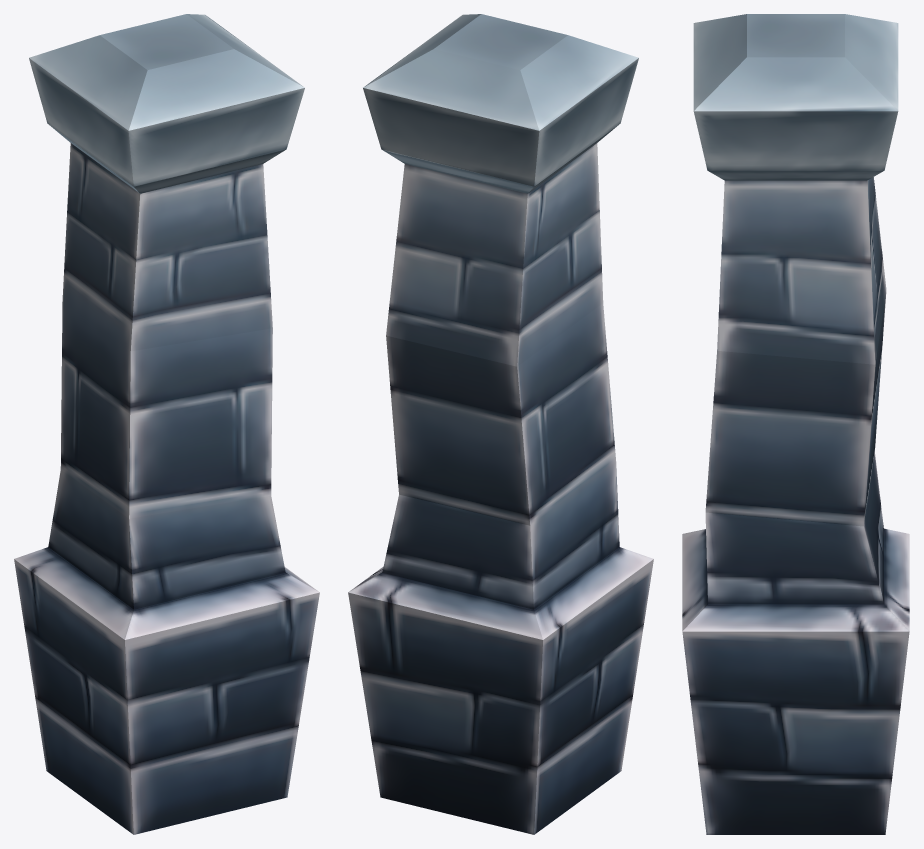
File: Vampire_Village_Props_14.FBX
3 renders of one model, left to right at view 1: azimuth 30°, elevation 25°; view 2: azimuth 150°, elevation 25°; view 3: azimuth 270°, elevation 25°, orthographic. The views are drawn at different scales.
Visible parts, largest first — view 1: Vampire_Village_Props_14; view 2: Vampire_Village_Props_14; view 3: Vampire_Village_Props_14.
Boxes of the visible parts, box(x1,y1,x2,y2) form: Vampire_Village_Props_14: box(14, 14, 319, 834); Vampire_Village_Props_14: box(348, 14, 653, 834); Vampire_Village_Props_14: box(682, 14, 909, 834).
Bounding box in the file's own units: 49.77 × 181 × 48.96.
